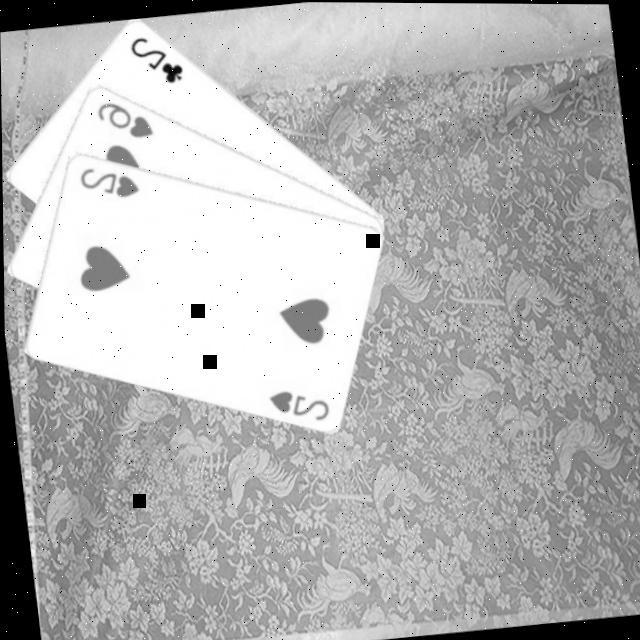2C: (123, 30, 187, 92)
2H: (260, 383, 331, 429), (73, 160, 142, 205)
6H: (91, 95, 156, 146)
